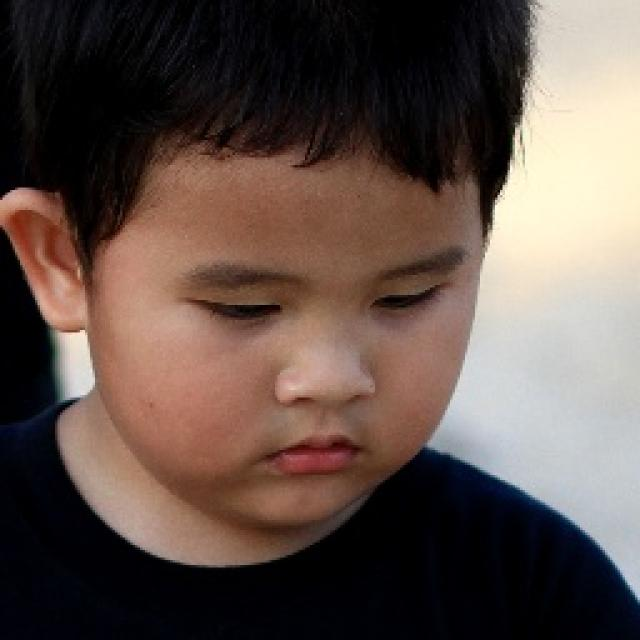earlobe: (46, 280, 88, 333)
eye: (187, 291, 286, 326), (369, 283, 443, 312)
nose: (275, 388, 378, 439)
wholeear: (0, 187, 89, 332)
